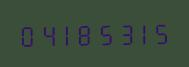eight: (74, 20, 92, 47)
five: (93, 20, 111, 46), (150, 19, 168, 45)
four: (36, 21, 54, 47)
one: (55, 20, 73, 47), (131, 19, 149, 46)
three: (112, 19, 130, 46)
zero: (17, 21, 35, 48)
